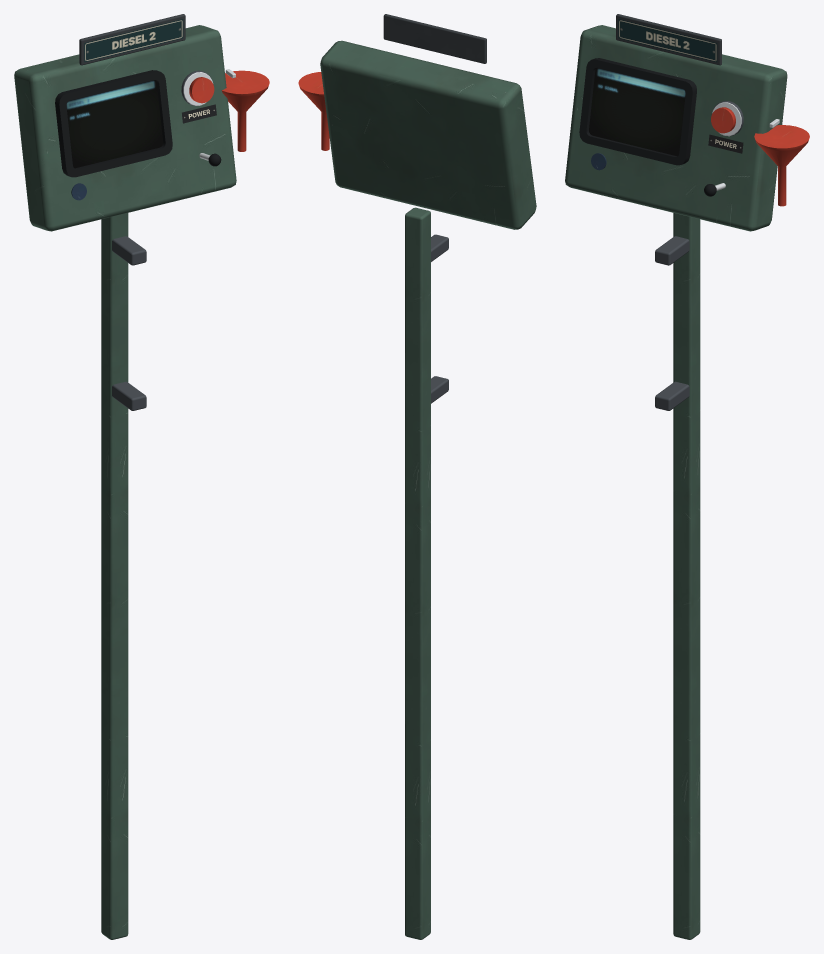
File: MotorPanel2.glb
3 views of the same model, side by side, from view 1: azimuth 30°, elevation 25°; view 2: azimuth 150°, elevation 25°; view 3: azimuth 330°, elevation 25° (orthographic). The views are drawn at different scales.
Parts seen in each view (by area): view 1: MotorPanel2_Body; view 2: MotorPanel2_Body; view 3: MotorPanel2_Body, MotorPanel2_PowerButton.
Boxes of the visible parts, x1,y1,x2,y2 form: MotorPanel2_Body: [14, 14, 269, 939]; MotorPanel2_Body: [298, 14, 536, 939]; MotorPanel2_Body: [565, 14, 809, 939]; MotorPanel2_PowerButton: [711, 107, 735, 133].
Bounding box in the file's own units: 0.748 × 2.85 × 0.2752.
14 materials, 8 textured.
